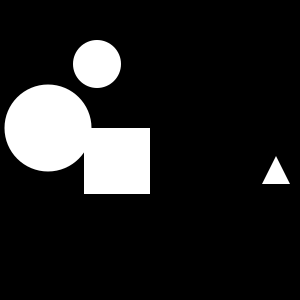circle: (84, 128, 150, 194)
rectangle: (5, 85, 92, 172), (73, 40, 121, 88)
triangle: (262, 156, 290, 184)
